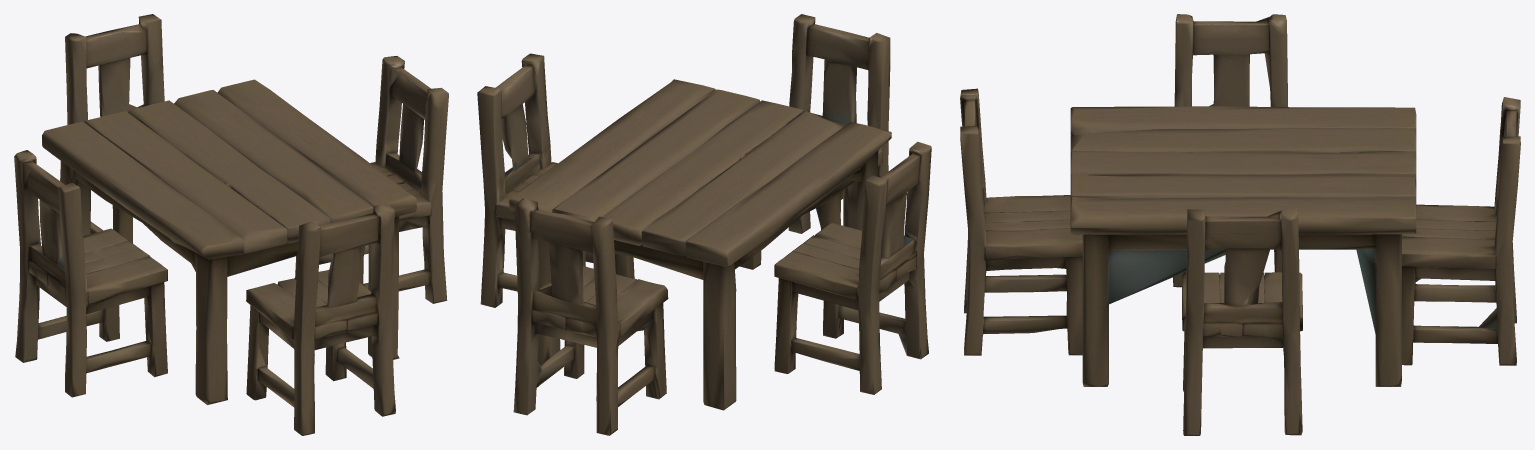
Rendered from dining_table.fbx.
The picture shows the model from 3 angles, left to right: view 1: azimuth 30°, elevation 25°; view 2: azimuth 150°, elevation 25°; view 3: azimuth 270°, elevation 25°; orthographic projection. The views are drawn at different scales.
Parts seen in each view (by area): view 1: tripo_node_66969941; view 2: tripo_node_66969941; view 3: tripo_node_66969941.
Boxes of the visible parts, bbox=[...] form: tripo_node_66969941: bbox=[14, 14, 448, 435]; tripo_node_66969941: bbox=[477, 14, 931, 435]; tripo_node_66969941: bbox=[960, 14, 1520, 435].
Size of the model in its own units: 0.8418 by 0.4289 by 0.9806.
